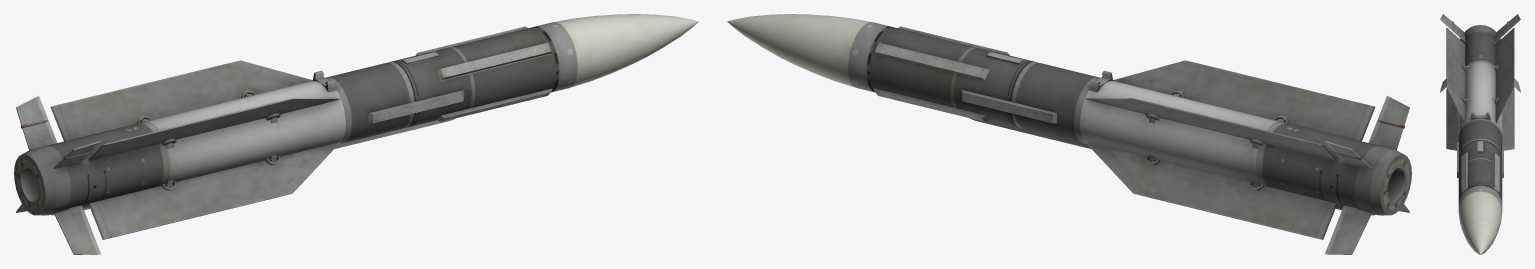
File: aam_3.glb
3 views of the same model, side by side, from view 1: azimuth 30°, elevation 25°; view 2: azimuth 150°, elevation 25°; view 3: azimuth 270°, elevation 25° (orthographic). The views are drawn at different scales.
Parts seen in each view (by area): view 1: weapon; view 2: weapon; view 3: weapon.
Part boxes in pixels (<box>): weapon: <box>14,14,698,254</box>; weapon: <box>727,14,1411,254</box>; weapon: <box>1440,14,1520,254</box>.
Bounding box in the file's own units: 1 × 0.1618 × 0.1618.
Materials: 1 (1 with a texture image).
